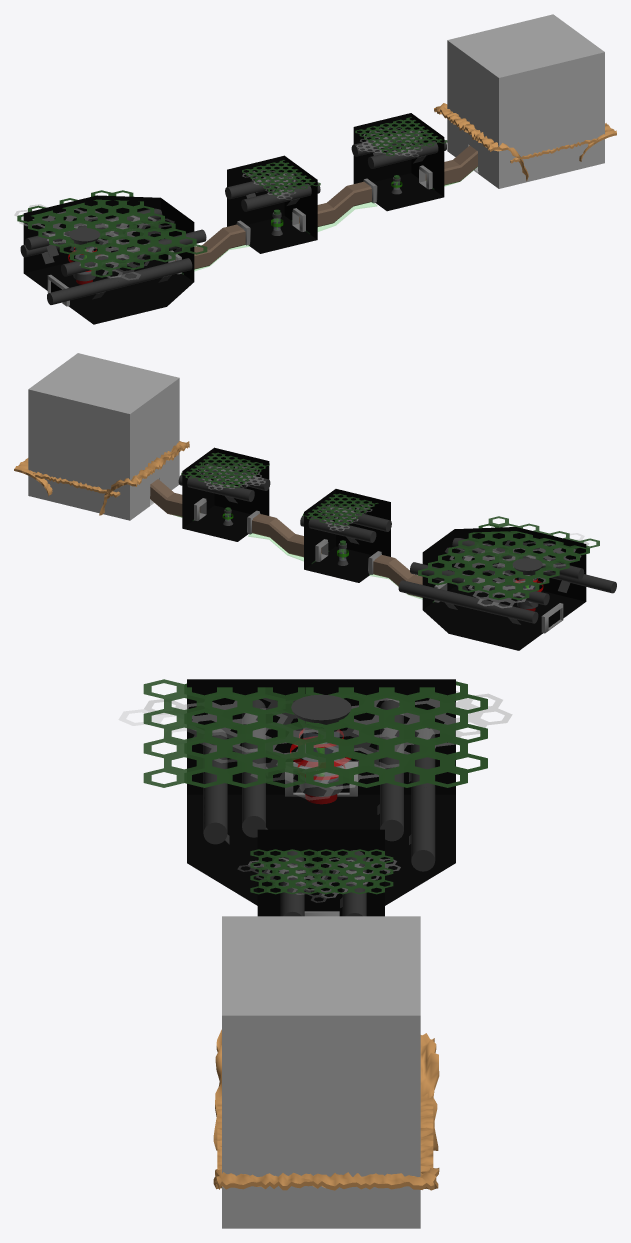
File: stage0204.fbx
3 views of the same model, one above another, from view 1: azimuth 30°, elevation 25°; view 2: azimuth 150°, elevation 25°; view 3: azimuth 270°, elevation 25° (orthographic). The views are drawn at different scales.
Parts seen in each view (by area): view 1: texture1, room3, room2, room1, startMap, obj3; view 2: texture1, room3, room2, room1, startMap, obj3, door4; view 3: texture1, room3, room2, startMap, obj3, door4.
Part boxes in pixels (x1,y1,x2,y2): texture1: (447, 14, 604, 188); room3: (14, 190, 249, 324); room2: (225, 155, 376, 253); room1: (351, 113, 477, 211); startMap: (434, 103, 616, 181); obj3: (68, 228, 100, 284); texture1: (28, 353, 179, 520); room3: (369, 516, 616, 650); room2: (248, 489, 391, 582); room1: (150, 447, 270, 541); startMap: (14, 441, 189, 515); obj3: (512, 558, 543, 611); door4: (541, 603, 563, 633); texture1: (222, 916, 420, 1228); room3: (119, 679, 512, 905); room2: (238, 829, 400, 916); startMap: (213, 1029, 439, 1190); obj3: (290, 694, 351, 804); door4: (285, 762, 357, 796).
Size of the model in its own units: 89 by 20.92 by 27.88.
